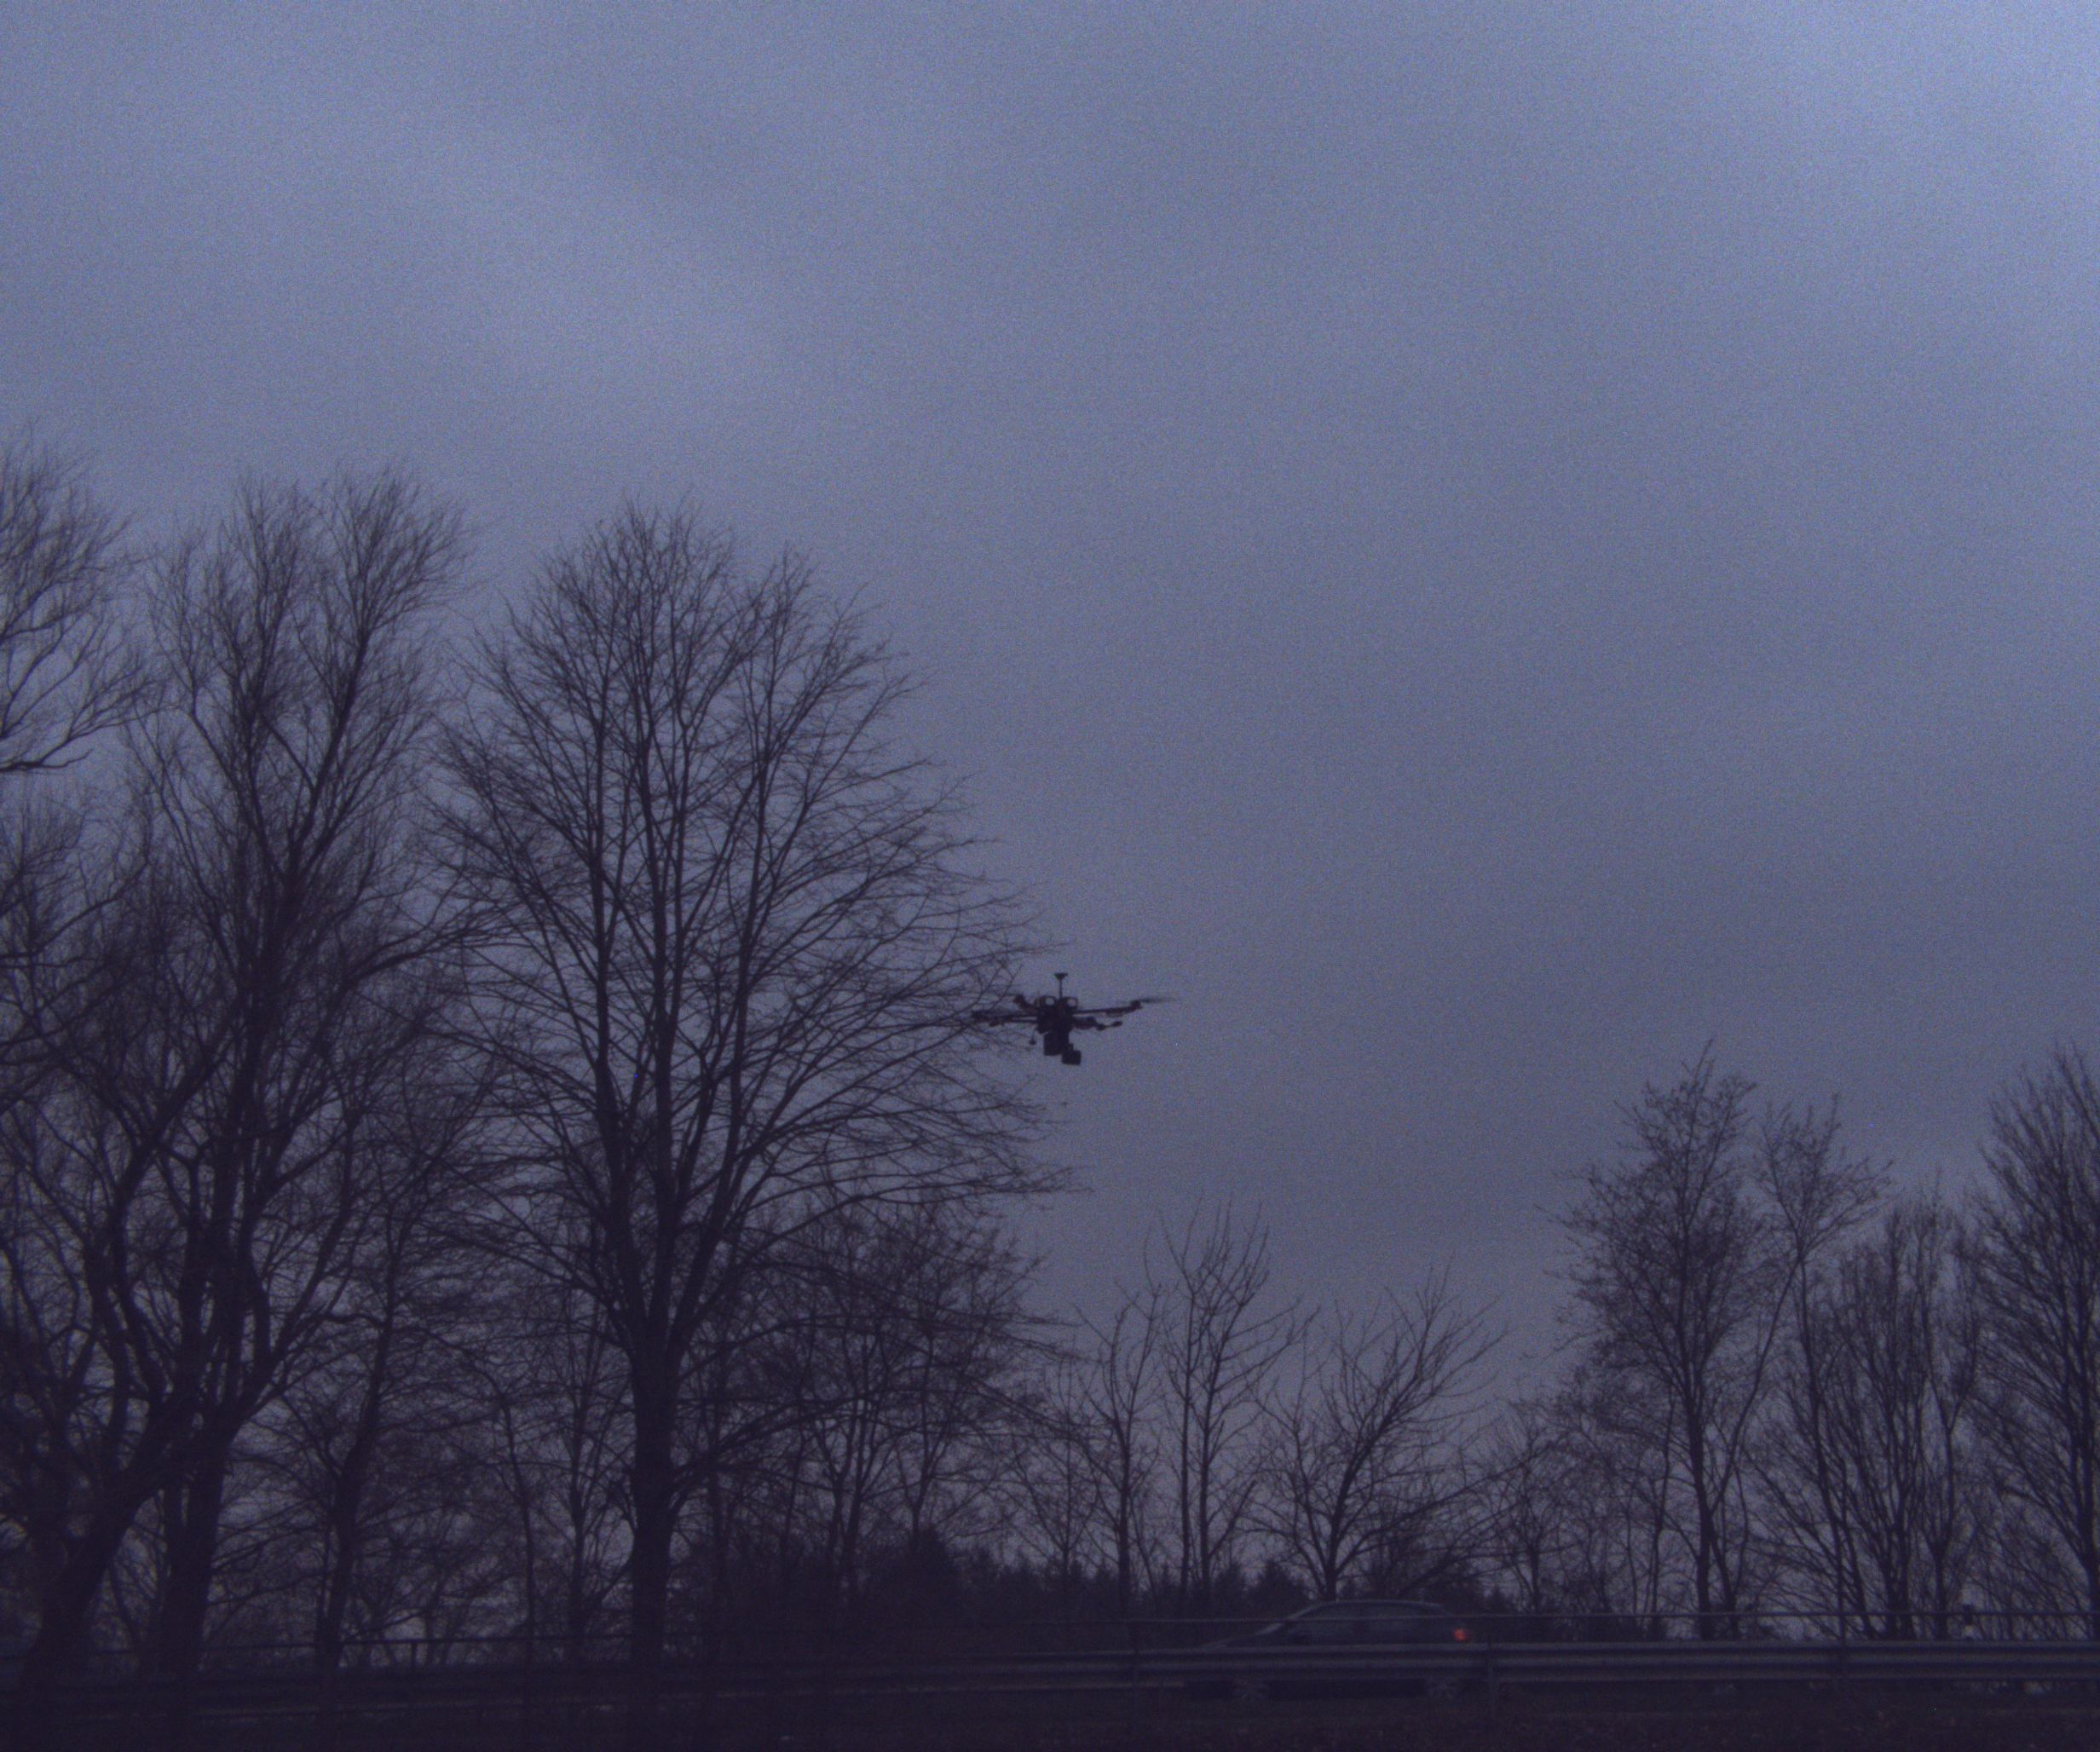Drohne: (926, 950, 1265, 1063)
